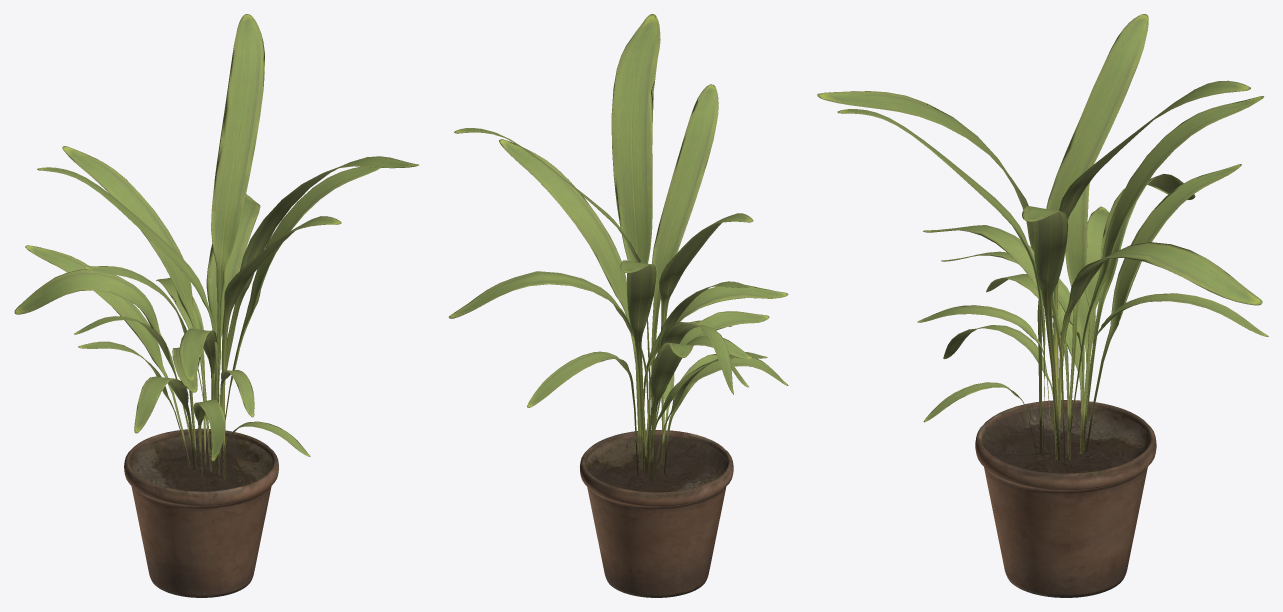
Rendered from palm.glb.
3 views of the same model, side by side, from view 1: azimuth 30°, elevation 25°; view 2: azimuth 150°, elevation 25°; view 3: azimuth 270°, elevation 25° (orthographic). The views are drawn at different scales.
Parts seen in each view (by area): view 1: Pflanze_Pflanzenmaterial_0; view 2: Pflanze_Pflanzenmaterial_0; view 3: Pflanze_Pflanzenmaterial_0.
Part boxes in pixels (x1,y1,x2,y2): Pflanze_Pflanzenmaterial_0: (14,14,418,597); Pflanze_Pflanzenmaterial_0: (448,14,788,597); Pflanze_Pflanzenmaterial_0: (817,14,1268,597).
Bounding box in the file's own units: 172 × 254 × 187.
Materials: 1 (1 with a texture image).
